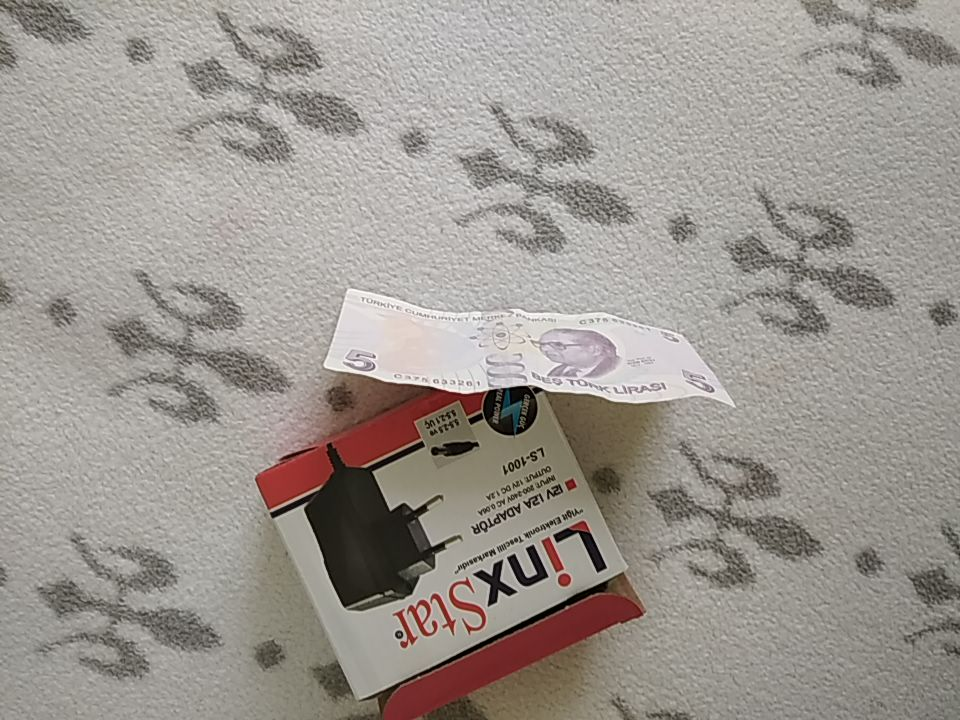5TL: (323, 287, 739, 411)
